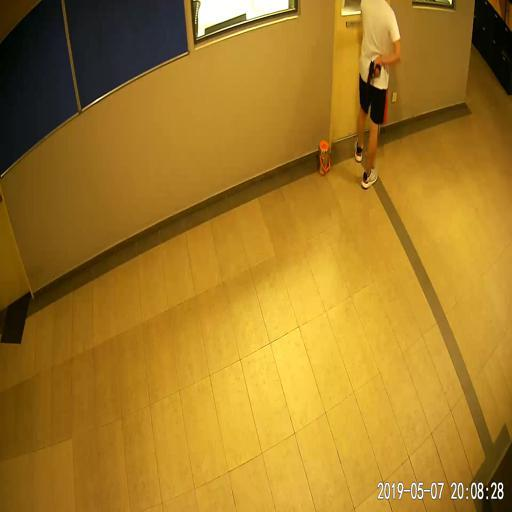Handgun: (364, 58, 380, 88)
